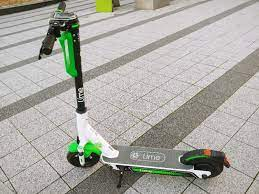kick_board: (42, 2, 230, 176)
kick_body: (105, 146, 188, 175)
kick_handler: (38, 1, 78, 60)
kick_neck: (66, 36, 93, 139)
kick_wheel: (189, 149, 223, 177), (67, 143, 98, 168)
